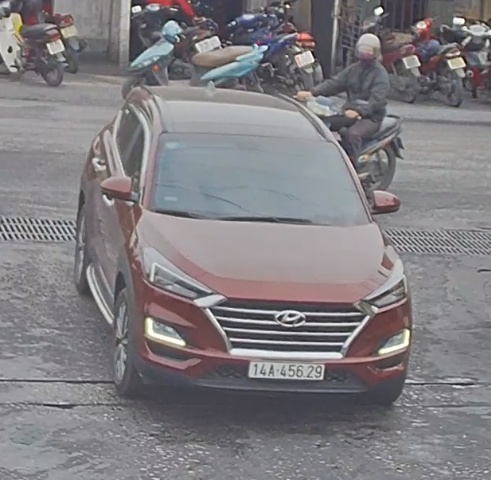vehicle plate: (246, 356, 329, 383)
